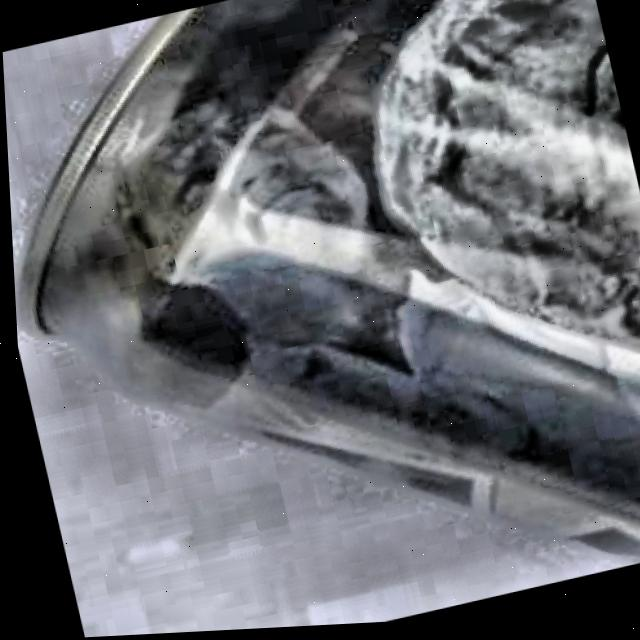metal: (12, 0, 640, 572)
